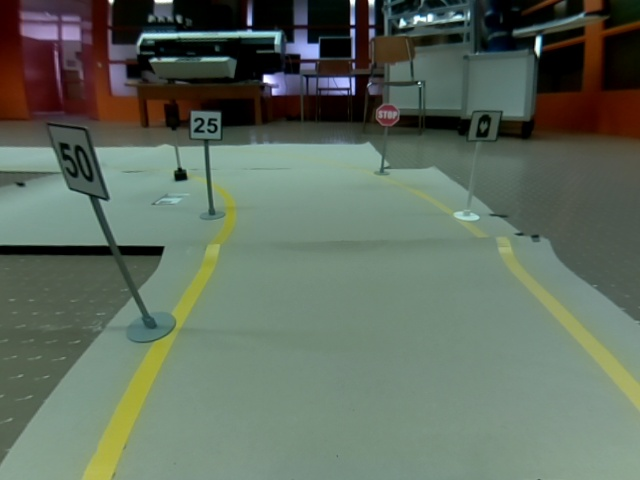battery: (467, 110, 503, 142)
speed25: (189, 109, 221, 140)
speed50: (45, 121, 110, 201)
stop: (375, 104, 400, 127)
trafficLightOff: (164, 103, 181, 127)
